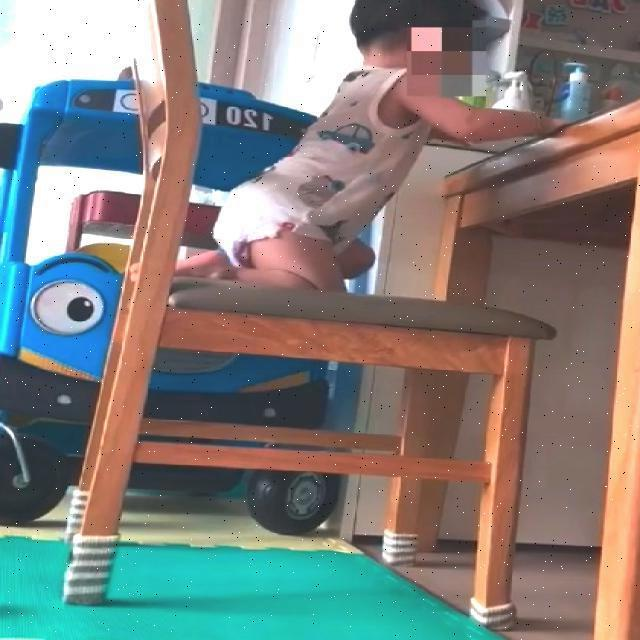child: (169, 0, 567, 289)
